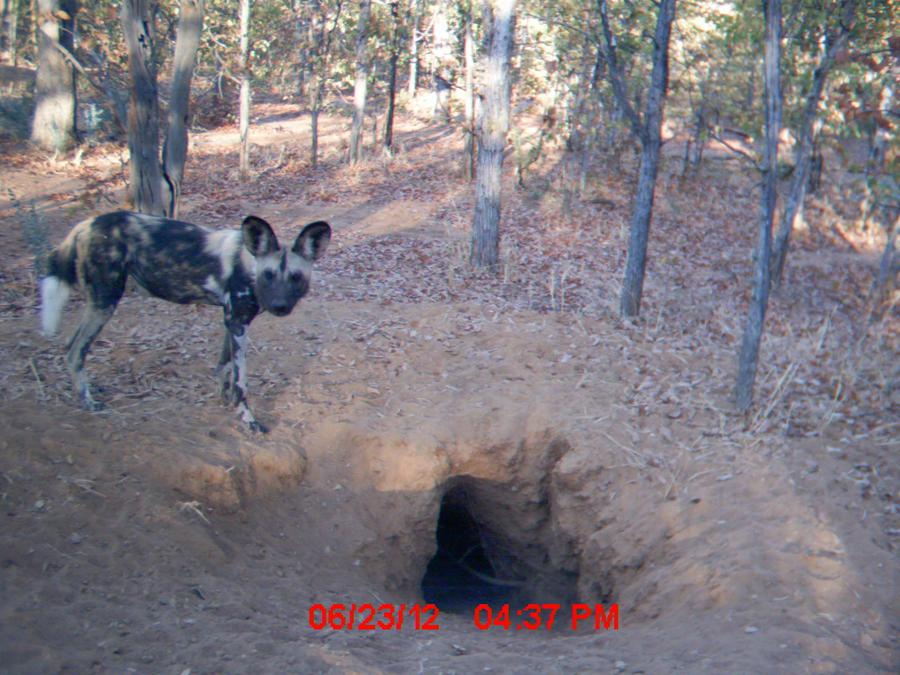wilddog: (48, 202, 347, 378)
